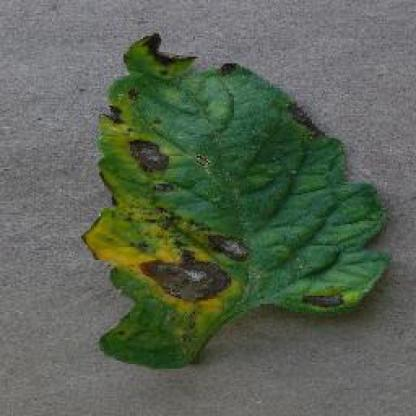Tomato_Blight: (82, 34, 391, 367)
